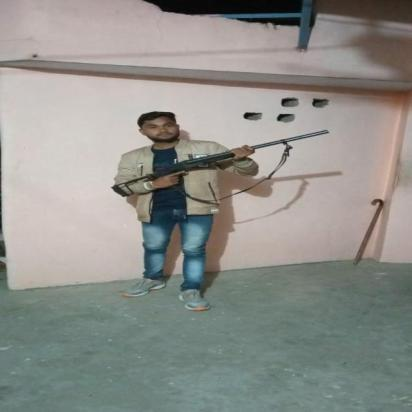Gun: (109, 128, 331, 198)
